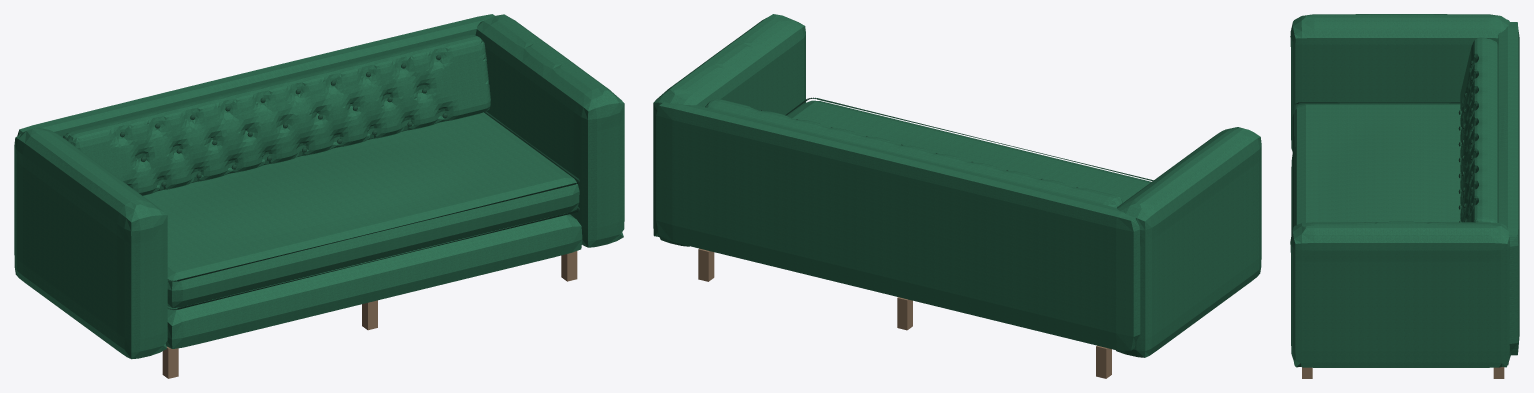
Rendered from FET-CHS-3-seat.glb.
3 renders of one model, left to right at view 1: azimuth 30°, elevation 25°; view 2: azimuth 150°, elevation 25°; view 3: azimuth 270°, elevation 25°, orthographic. The views are drawn at different scales.
Visible parts, largest first — view 1: seat:fabric:eyJwcmVzZXQiOiJ2ZWx2ZXQiLCJ3YXJwIjoiZW1lcmFsZCIs, inside-back:fabric:eyJwcmVzZXQiOiJ2ZWx2ZXQiLCJ3YXJwIjoiZW1lc, arm-pad-l:fabric:eyJwcmVzZXQiOiJ2ZWx2ZXQiLCJ3YXJwIjoiZW1lcmF, arm-pad-r:fabric:eyJwcmVzZXQiOiJ2ZWx2ZXQiLCJ3YXJwIjoiZW1lcmF, deck:fabric:eyJwcmVzZXQiOiJ2ZWx2ZXQiLCJ3YXJwIjoiZW1lcmFsZCIs, back-pad:fabric:eyJwcmVzZXQiOiJ2ZWx2ZXQiLCJ3YXJwIjoiZW1lcmFs, seat:piping:pbr, inside-back:buttons:pbr; view 2: back-pad:fabric:eyJwcmVzZXQiOiJ2ZWx2ZXQiLCJ3YXJwIjoiZW1lcmFs, arm-pad-l:fabric:eyJwcmVzZXQiOiJ2ZWx2ZXQiLCJ3YXJwIjoiZW1lcmF, arm-pad-r:fabric:eyJwcmVzZXQiOiJ2ZWx2ZXQiLCJ3YXJwIjoiZW1lcmF, seat:fabric:eyJwcmVzZXQiOiJ2ZWx2ZXQiLCJ3YXJwIjoiZW1lcmFsZCIs, inside-back:fabric:eyJwcmVzZXQiOiJ2ZWx2ZXQiLCJ3YXJwIjoiZW1lc, seat:piping:pbr, leg-br:pbr; view 3: arm-pad-r:fabric:eyJwcmVzZXQiOiJ2ZWx2ZXQiLCJ3YXJwIjoiZW1lcmF, seat:fabric:eyJwcmVzZXQiOiJ2ZWx2ZXQiLCJ3YXJwIjoiZW1lcmFsZCIs, arm-pad-l:fabric:eyJwcmVzZXQiOiJ2ZWx2ZXQiLCJ3YXJwIjoiZW1lcmF, inside-back:fabric:eyJwcmVzZXQiOiJ2ZWx2ZXQiLCJ3YXJwIjoiZW1lc, back-pad:fabric:eyJwcmVzZXQiOiJ2ZWx2ZXQiLCJ3YXJwIjoiZW1lcmFs, seat:piping:pbr, inside-back:buttons:pbr.
Part boxes in pixels (bbox=[...]): seat:fabric:eyJwcmVzZXQiOiJ2ZWx2ZXQiLCJ3YXJwIjoiZW1lcmFsZCIs: bbox=[143, 112, 579, 307]; inside-back:fabric:eyJwcmVzZXQiOiJ2ZWx2ZXQiLCJ3YXJwIjoiZW1lc: bbox=[63, 35, 490, 195]; arm-pad-l:fabric:eyJwcmVzZXQiOiJ2ZWx2ZXQiLCJ3YXJwIjoiZW1lcmF: bbox=[14, 127, 167, 359]; arm-pad-r:fabric:eyJwcmVzZXQiOiJ2ZWx2ZXQiLCJ3YXJwIjoiZW1lcmF: bbox=[475, 14, 624, 247]; deck:fabric:eyJwcmVzZXQiOiJ2ZWx2ZXQiLCJ3YXJwIjoiZW1lcmFsZCIs: bbox=[165, 213, 582, 348]; back-pad:fabric:eyJwcmVzZXQiOiJ2ZWx2ZXQiLCJ3YXJwIjoiZW1lcmFs: bbox=[17, 14, 494, 137]; seat:piping:pbr: bbox=[167, 111, 579, 309]; inside-back:buttons:pbr: bbox=[120, 54, 447, 186]; back-pad:fabric:eyJwcmVzZXQiOiJ2ZWx2ZXQiLCJ3YXJwIjoiZW1lcmFs: bbox=[656, 102, 1140, 350]; arm-pad-l:fabric:eyJwcmVzZXQiOiJ2ZWx2ZXQiLCJ3YXJwIjoiZW1lcmF: bbox=[1116, 127, 1261, 357]; arm-pad-r:fabric:eyJwcmVzZXQiOiJ2ZWx2ZXQiLCJ3YXJwIjoiZW1lcmF: bbox=[653, 14, 805, 246]; seat:fabric:eyJwcmVzZXQiOiJ2ZWx2ZXQiLCJ3YXJwIjoiZW1lcmFsZCIs: bbox=[787, 100, 1151, 202]; inside-back:fabric:eyJwcmVzZXQiOiJ2ZWx2ZXQiLCJ3YXJwIjoiZW1lc: bbox=[705, 99, 1122, 207]; seat:piping:pbr: bbox=[785, 97, 1153, 180]; leg-br:pbr: bbox=[698, 248, 714, 281]; arm-pad-r:fabric:eyJwcmVzZXQiOiJ2ZWx2ZXQiLCJ3YXJwIjoiZW1lcmF: bbox=[1290, 221, 1510, 367]; seat:fabric:eyJwcmVzZXQiOiJ2ZWx2ZXQiLCJ3YXJwIjoiZW1lcmFsZCIs: bbox=[1292, 104, 1461, 229]; arm-pad-l:fabric:eyJwcmVzZXQiOiJ2ZWx2ZXQiLCJ3YXJwIjoiZW1lcmF: bbox=[1290, 14, 1509, 151]; inside-back:fabric:eyJwcmVzZXQiOiJ2ZWx2ZXQiLCJ3YXJwIjoiZW1lc: bbox=[1460, 37, 1498, 222]; back-pad:fabric:eyJwcmVzZXQiOiJ2ZWx2ZXQiLCJ3YXJwIjoiZW1lcmFs: bbox=[1498, 22, 1519, 355]; seat:piping:pbr: bbox=[1294, 102, 1460, 225]; inside-back:buttons:pbr: bbox=[1458, 60, 1472, 222].
Size of the model in its own units: 2.2 by 0.76 by 0.95.
Materials: 14 (6 with a texture image).
